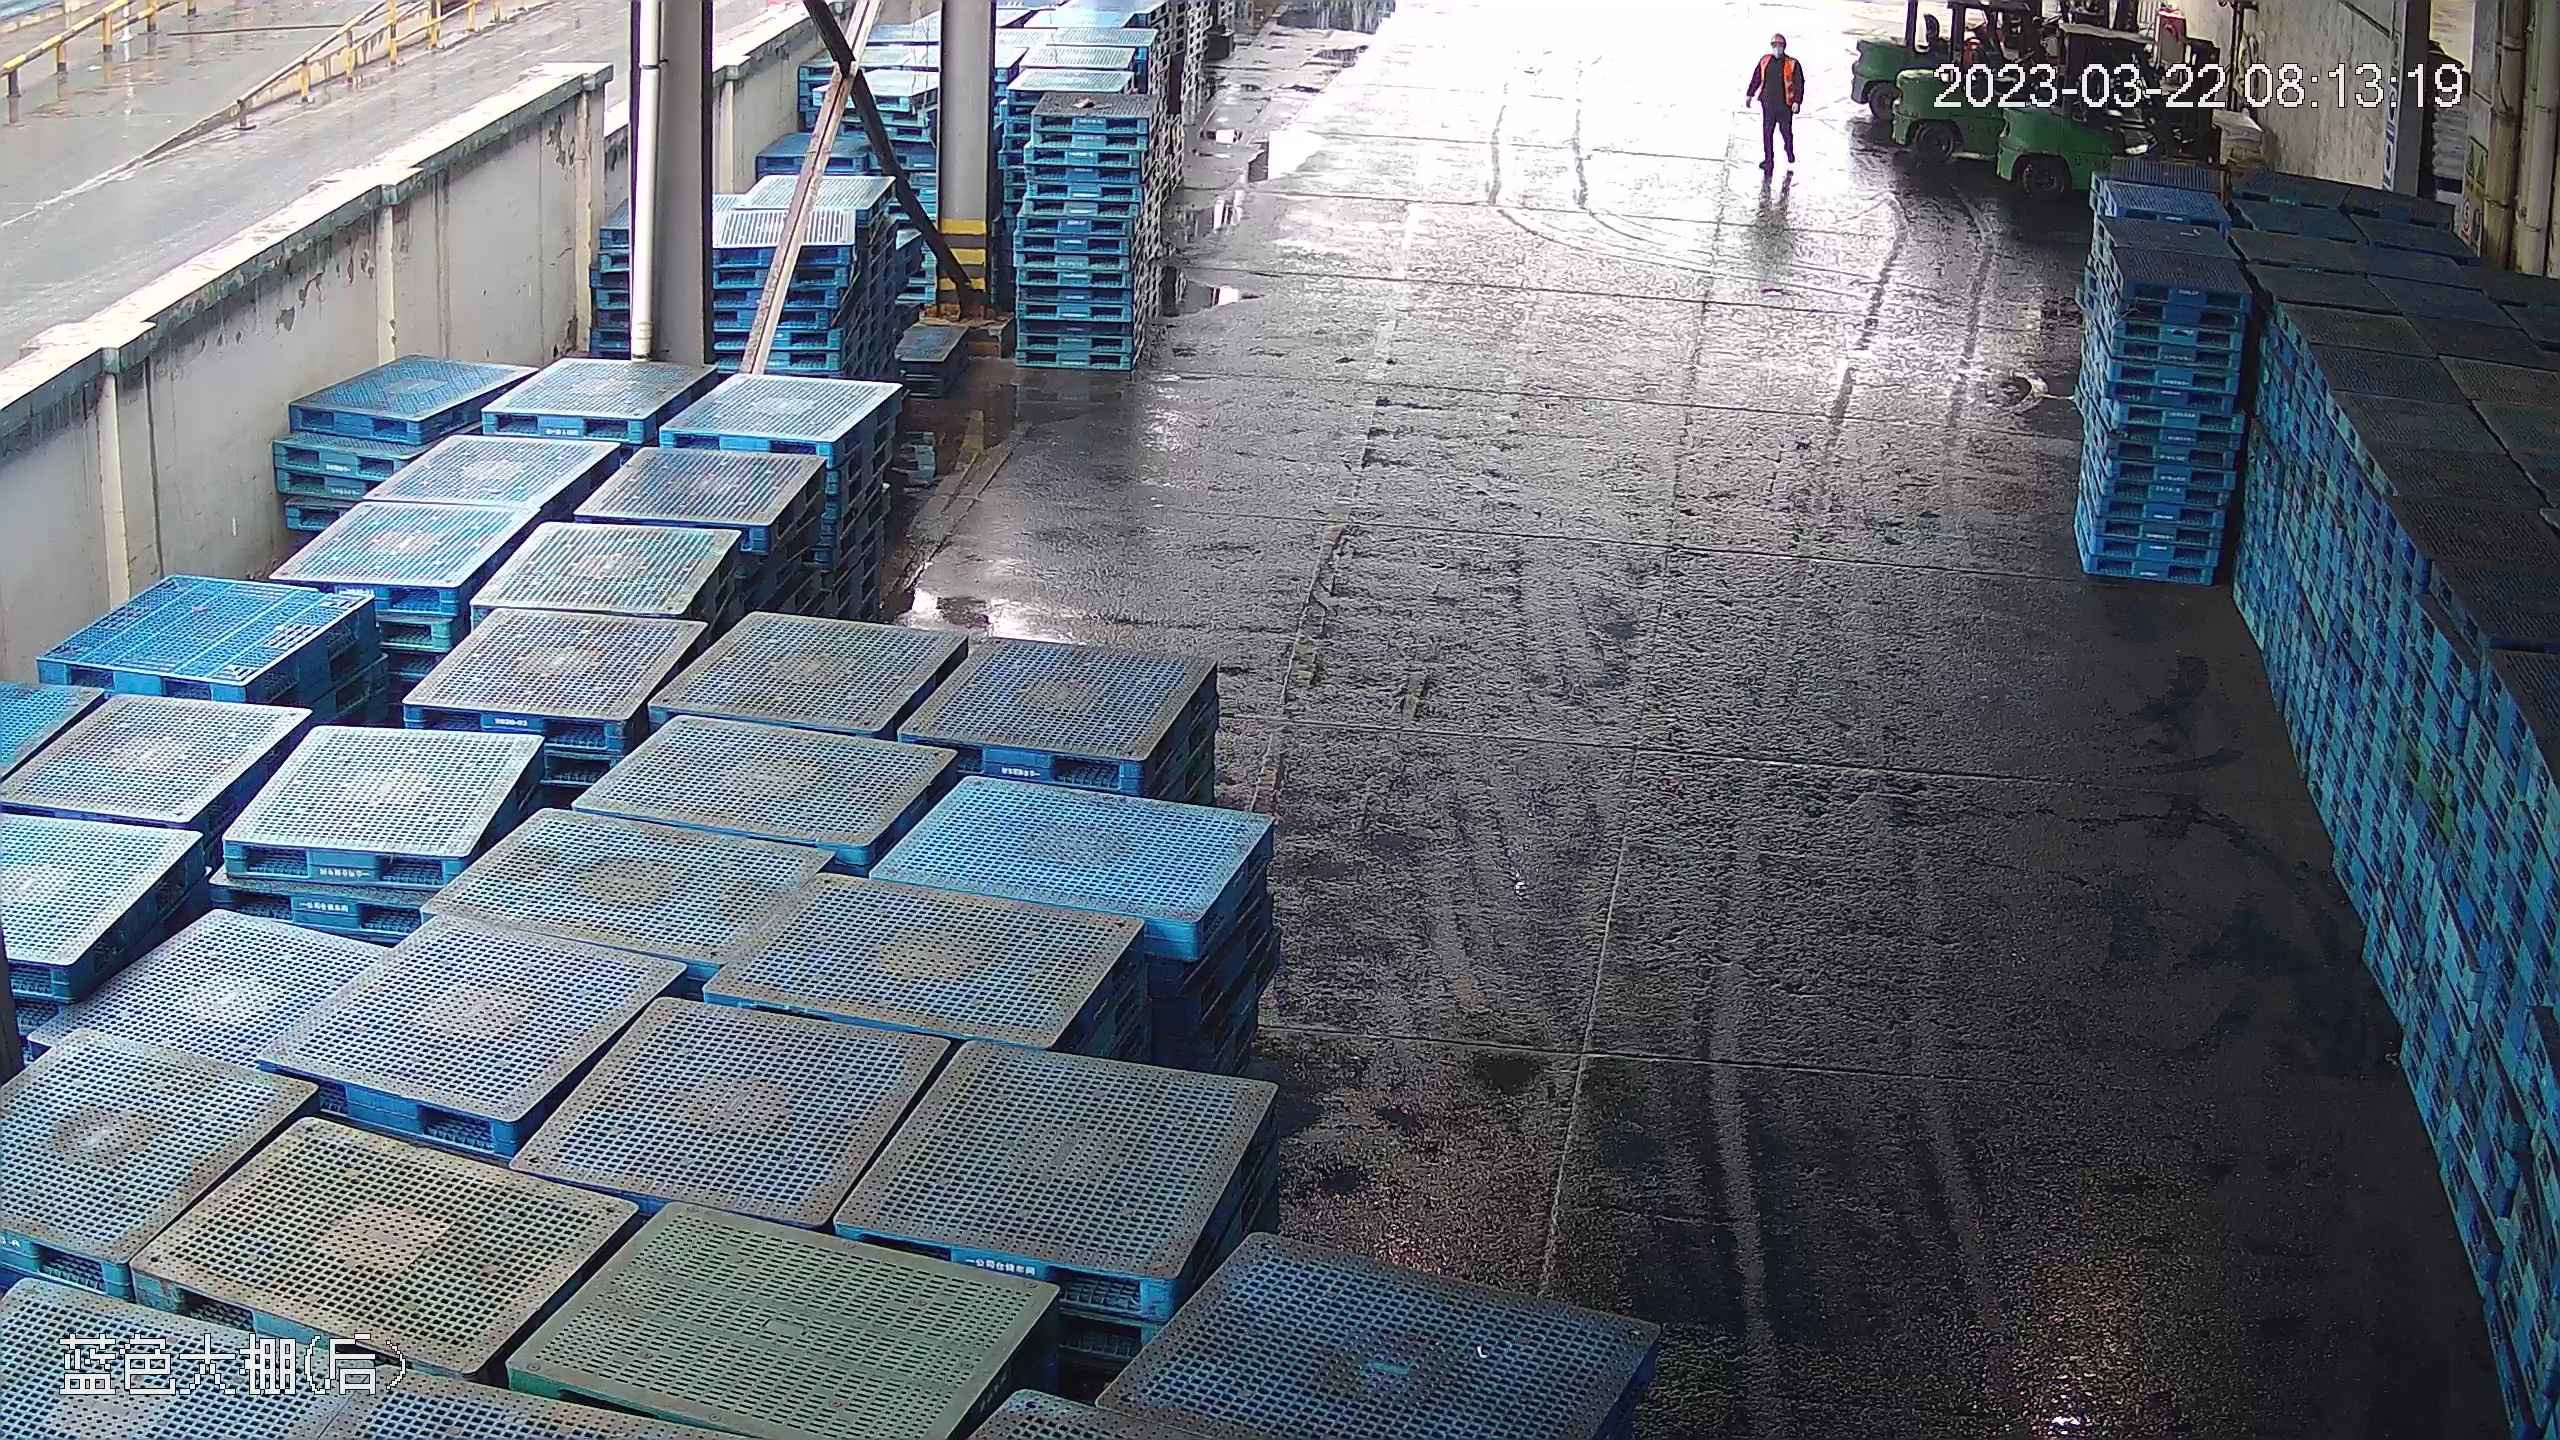head: (1753, 26, 1801, 78)
helmet: (1770, 33, 1786, 46)
people: (1745, 19, 1805, 198)
